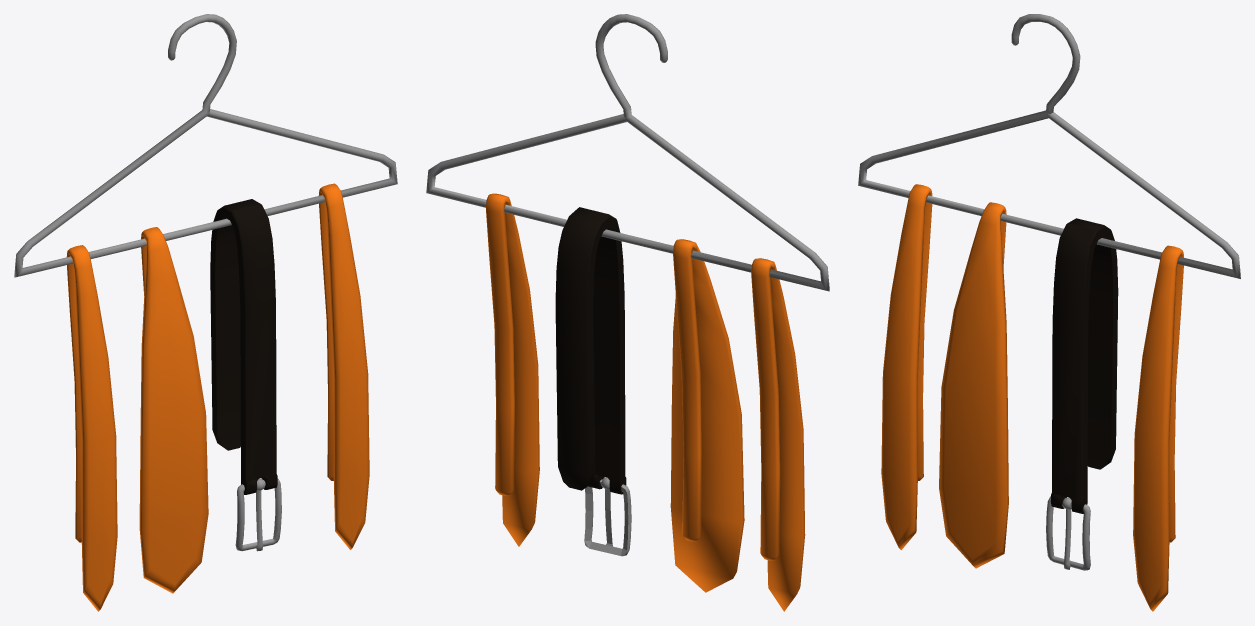
File: Char_Mesh_TieBeltHang2.FBX
3 views of the same model, side by side, from view 1: azimuth 30°, elevation 25°; view 2: azimuth 150°, elevation 25°; view 3: azimuth 330°, elevation 25° (orthographic). The views are drawn at different scales.
Visible parts, largest first — view 1: tie_belt_hang1, hanger; view 2: tie_belt_hang1, hanger; view 3: tie_belt_hang1, hanger.
Boxes of the visible parts, x1=… form: tie_belt_hang1: x1=66, y1=183, x2=369, y2=611; hanger: x1=14, y1=14, x2=397, y2=277; tie_belt_hang1: x1=486, y1=193, x2=805, y2=611; hanger: x1=426, y1=14, x2=829, y2=291; tie_belt_hang1: x1=881, y1=184, x2=1183, y2=611; hanger: x1=858, y1=14, x2=1240, y2=278.
Size of the model in its own units: 77.84 by 107 by 15.15.
